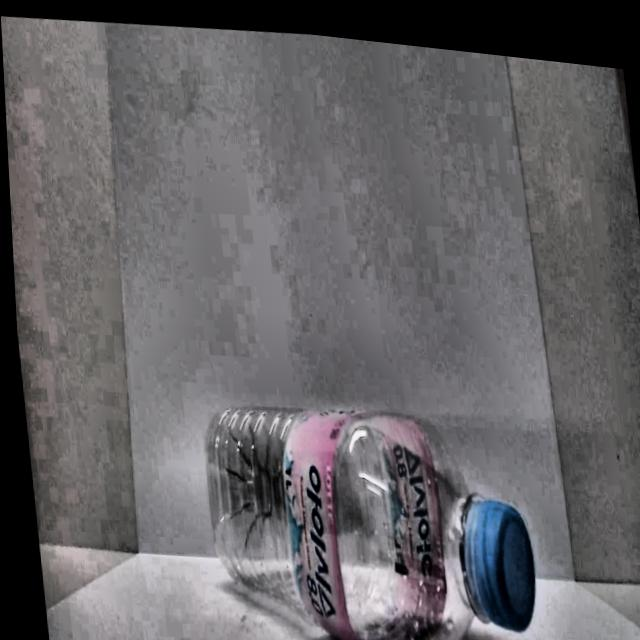Bottles: (171, 346, 560, 640)
